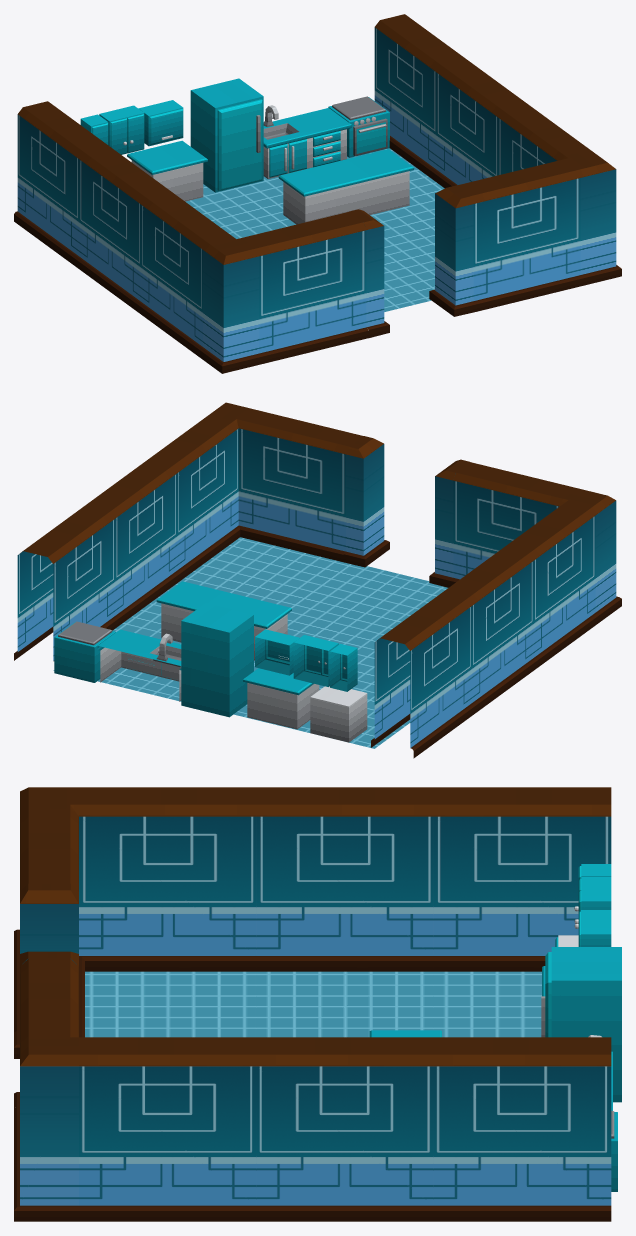
Rendered from Stage1_Kitchen.fbx.
3 renders of one model, top to bottom at view 1: azimuth 30°, elevation 25°; view 2: azimuth 150°, elevation 25°; view 3: azimuth 270°, elevation 25°, orthographic. The views are drawn at different scales.
Visible parts, largest first — view 1: Floor_v1.001; view 2: Floor_v1.001; view 3: Floor_v1.001.
Part boxes in pixels (x1,y1,x2,y2): Floor_v1.001: (14, 14, 621, 373); Floor_v1.001: (14, 402, 621, 758); Floor_v1.001: (14, 787, 621, 1221).
Size of the model in its own units: 1120 by 300 by 1028.
